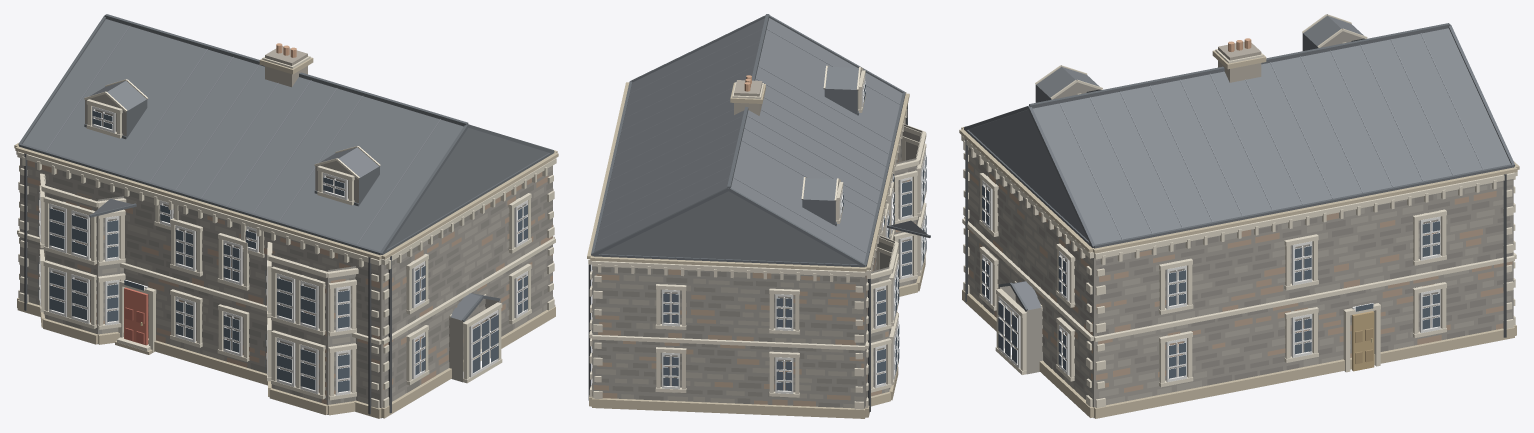
3 renders of one model, left to right at view 1: azimuth 30°, elevation 25°; view 2: azimuth 150°, elevation 25°; view 3: azimuth 270°, elevation 25°, orthographic. The views are drawn at different scales.
Parts seen in each view (by area): view 1: slate, ss_lt, rubble, rubble_lt, rubble_dk, ss_dk, frame, slate_dk, rubble_rust, slate_lt, pipe, door_red (+1 smaller); view 2: slate, rubble, ss_lt, rubble_dk, ss_dk, slate_dk, rubble_lt, rubble_rust, slate_lt, frame, pipe, chim_stone; view 3: slate, rubble, ss_lt, rubble_lt, rubble_dk, ss_dk, slate_dk, rubble_rust, frame, slate_lt, pipe, door_wood (+1 smaller).
Boxes of the visible parts, box(x1,y1,x2,y2) form: slate: box(23, 19, 548, 320); ss_lt: box(16, 56, 556, 408); rubble: box(20, 99, 552, 418); rubble_lt: box(21, 94, 552, 403); rubble_dk: box(21, 171, 552, 404); ss_dk: box(14, 57, 558, 418); frame: box(39, 106, 527, 395); slate_dk: box(18, 14, 554, 321); rubble_rust: box(27, 160, 552, 404); slate_lt: box(46, 26, 440, 244); pipe: box(24, 153, 391, 414); door_red: box(124, 287, 148, 345); slate: box(594, 18, 928, 264); rubble: box(592, 91, 922, 408); ss_lt: box(588, 65, 926, 409); rubble_dk: box(592, 139, 918, 407); ss_dk: box(587, 82, 925, 418); slate_dk: box(591, 14, 930, 267); rubble_lt: box(592, 69, 918, 408); rubble_rust: box(592, 157, 915, 406); slate_lt: box(596, 29, 930, 252); frame: box(662, 77, 925, 393); pipe: box(588, 104, 907, 412); chim_stone: box(734, 80, 762, 115); slate: box(968, 15, 1510, 310); rubble: box(968, 31, 1513, 418); ss_lt: box(961, 14, 1517, 408); rubble_lt: box(968, 154, 1512, 406); rubble_dk: box(968, 147, 1512, 388); ss_dk: box(959, 50, 1519, 418); slate_dk: box(963, 23, 1514, 311); rubble_rust: box(968, 163, 1512, 392); frame: box(982, 180, 1440, 382); slate_lt: box(1059, 33, 1483, 239); pipe: box(965, 139, 1506, 337); door_wood: box(1352, 311, 1374, 371).
Size of the model in its own units: 16.84 by 10.64 by 19.47.
